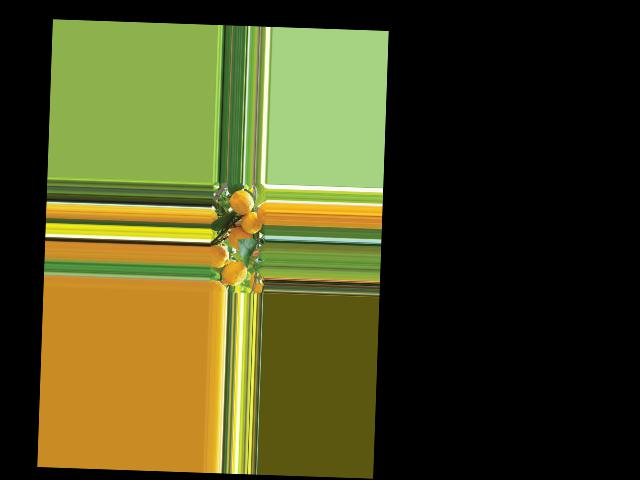lemon: (231, 187, 256, 217)
